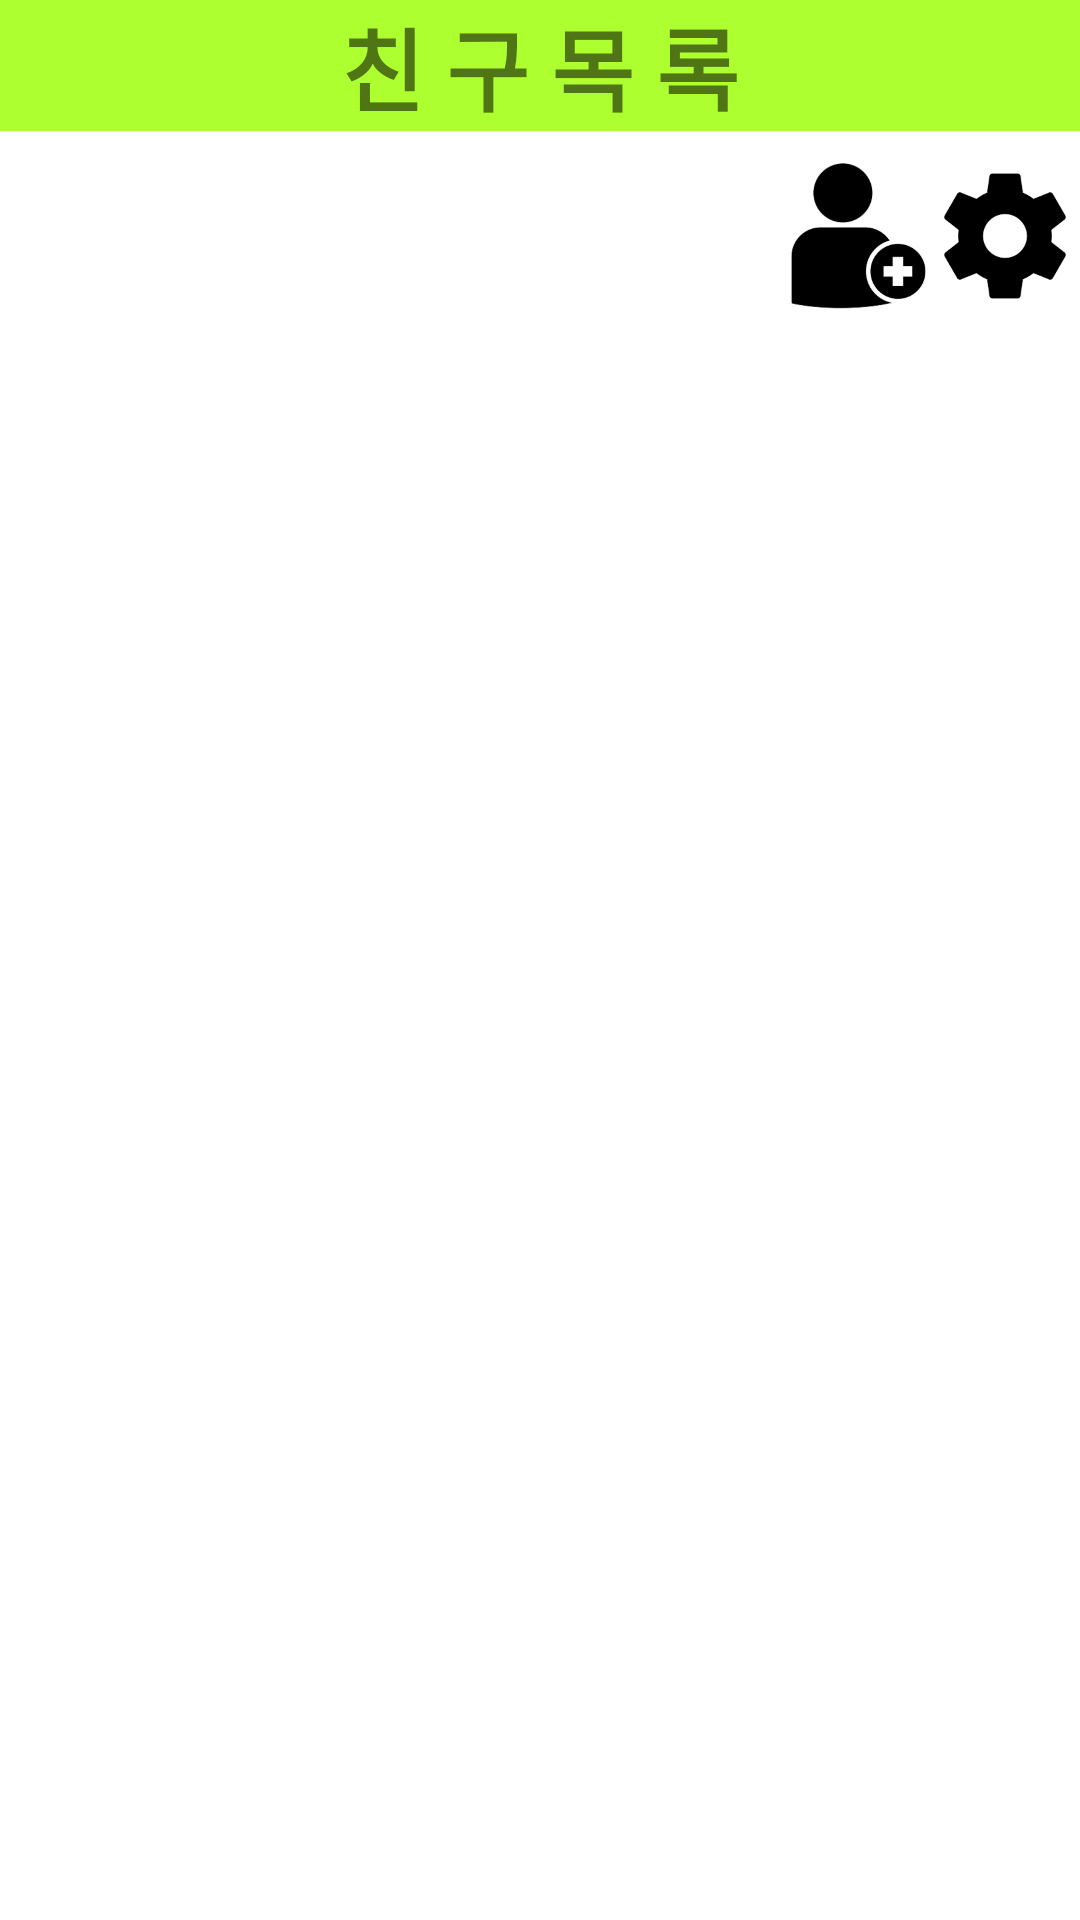

Named icons in this screenshot (1080×1920) and their bounding boxes, (x1, y1, x2, y2):
addfr: (791, 163, 926, 309)
